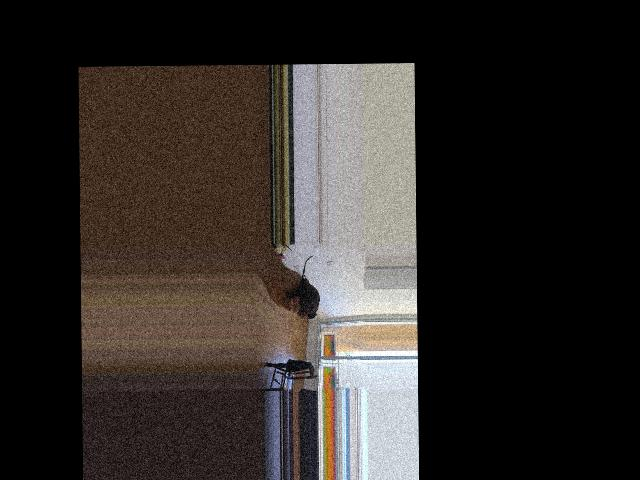beet: (297, 256, 319, 320)
